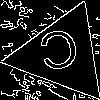C: (36, 29, 83, 79)
